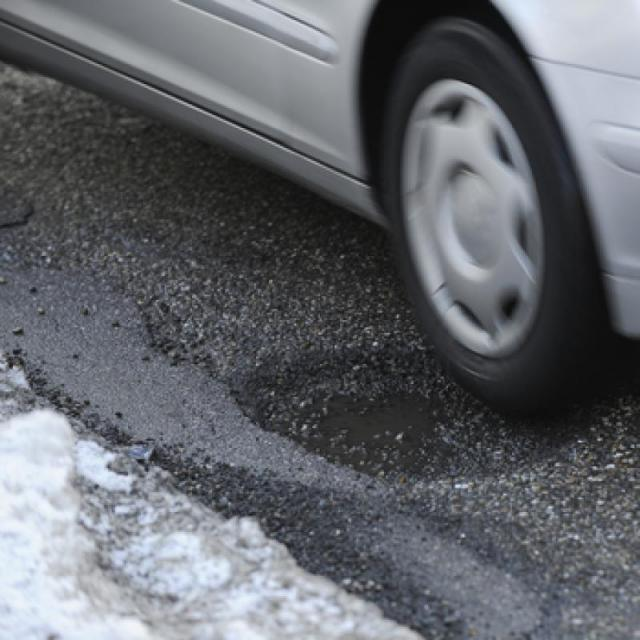Pothole: (236, 354, 503, 481)
